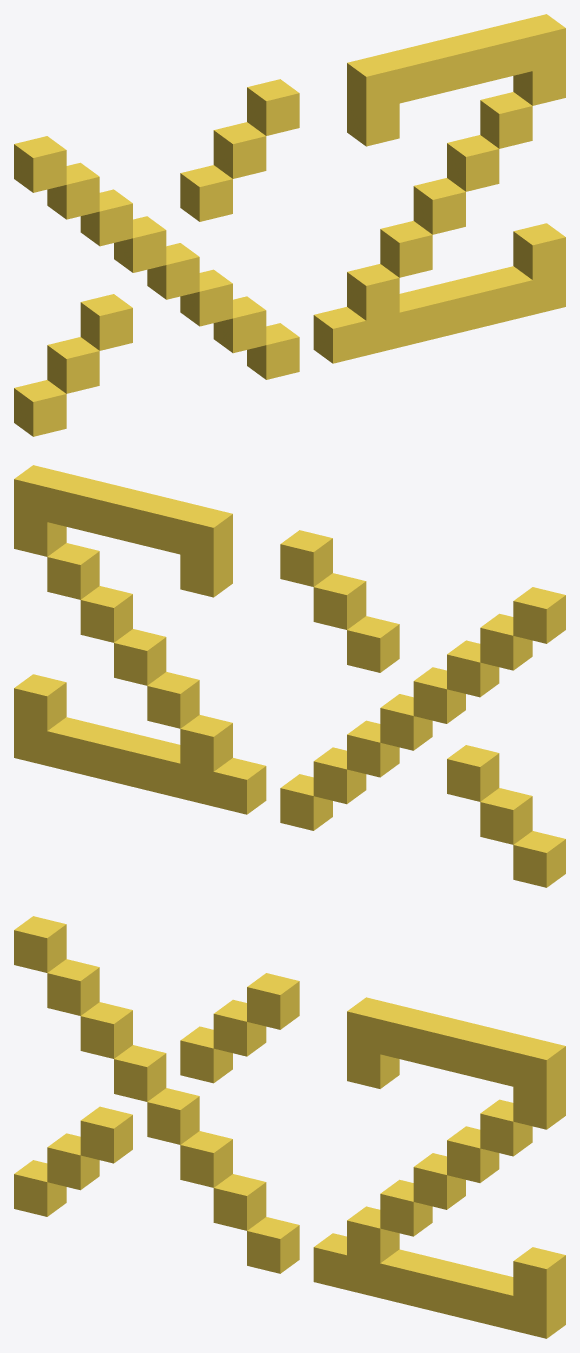
The model's file is x2bonus.glb.
3 renders of one model, top to bottom at view 1: azimuth 30°, elevation 25°; view 2: azimuth 150°, elevation 25°; view 3: azimuth 330°, elevation 25°, orthographic.
Parts seen in each view (by area): view 1: shape0 (×35); view 2: shape0 (×35); view 3: shape0 (×35).
Boxes of the visible parts, x1=… form: shape0 (×35): x1=14, y1=14, x2=565, y2=436; shape0 (×35): x1=14, y1=465, x2=565, y2=887; shape0 (×35): x1=14, y1=916, x2=565, y2=1338.
Size of the model in its own units: 16 by 8 by 1.
35 materials, 35 textured.
